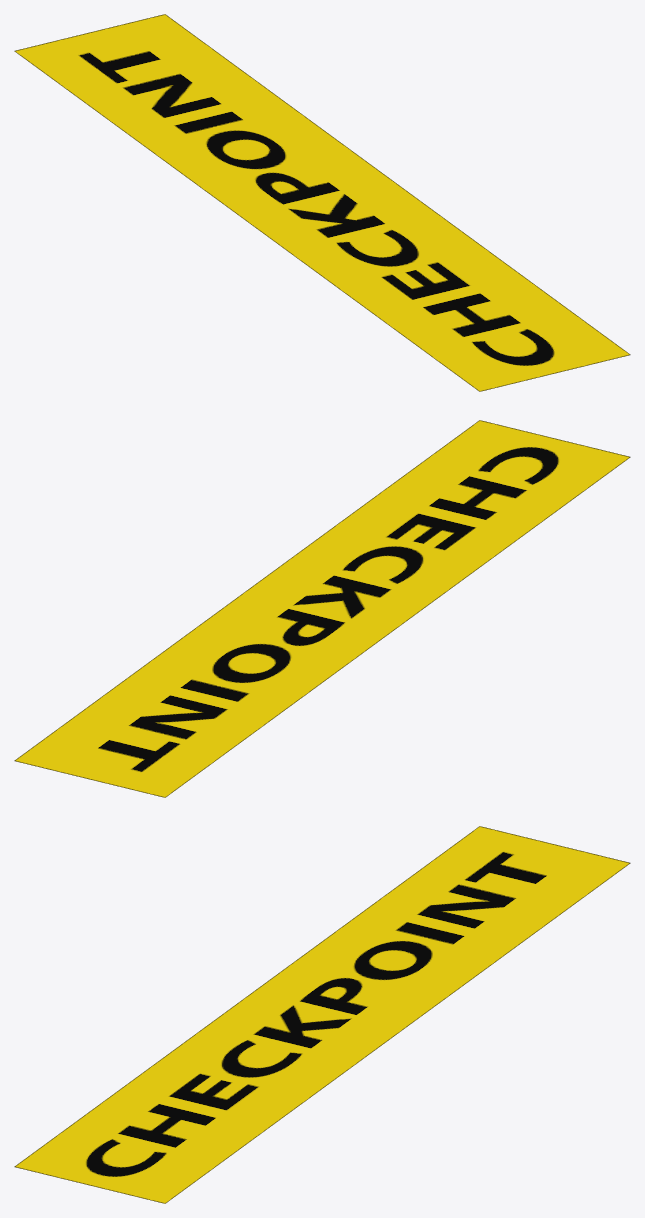
Rendered from checkpoint.fbx.
3 views of the same model, one above another, from view 1: azimuth 30°, elevation 25°; view 2: azimuth 150°, elevation 25°; view 3: azimuth 330°, elevation 25° (orthographic).
Parts seen in each view (by area): view 1: pasted__pPlane4; view 2: pasted__pPlane4; view 3: pasted__pPlane4.
Part boxes in pixels (x1,y1,x2,y2): pasted__pPlane4: (14,14,630,391); pasted__pPlane4: (14,420,630,797); pasted__pPlane4: (14,826,630,1203).
Size of the model in its own units: 0.375 by 0 by 2.
